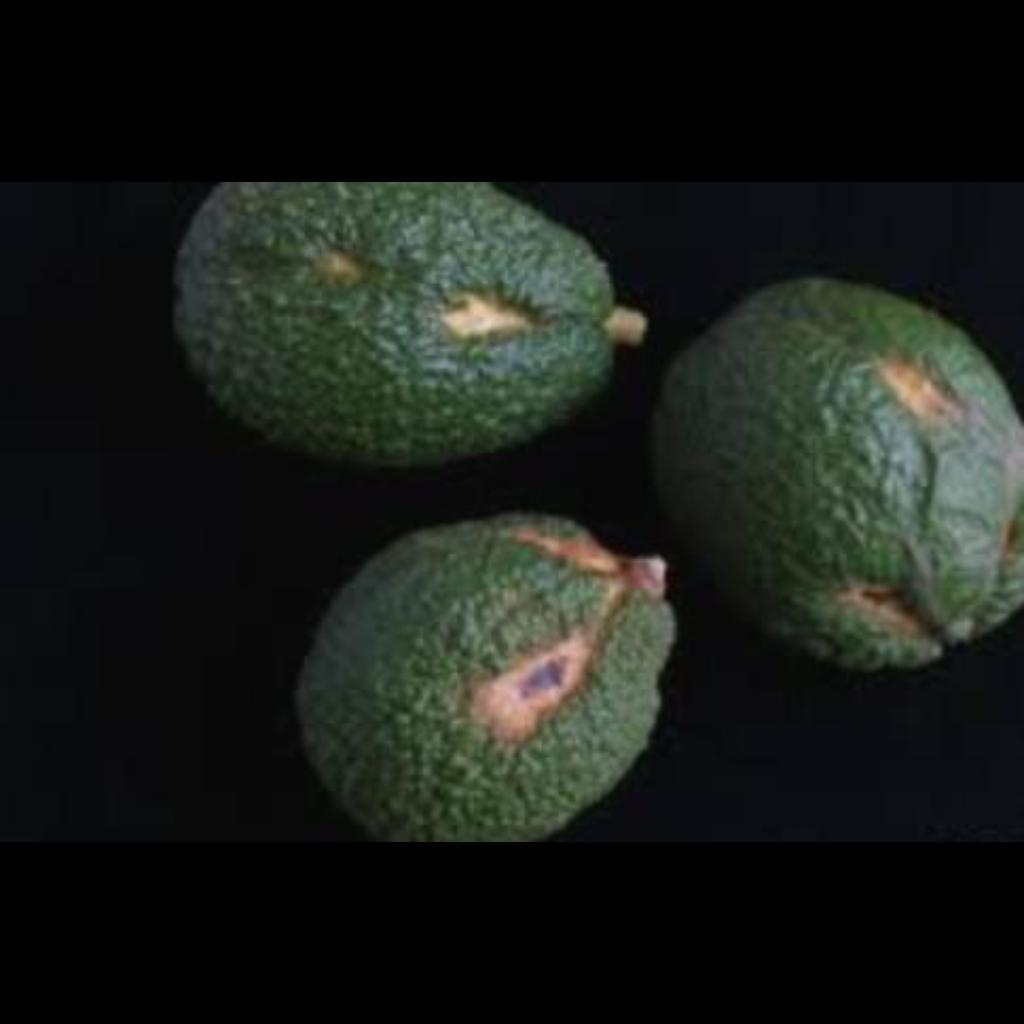sunblotch: (267, 508, 741, 842), (658, 275, 1024, 671), (162, 193, 649, 455)
